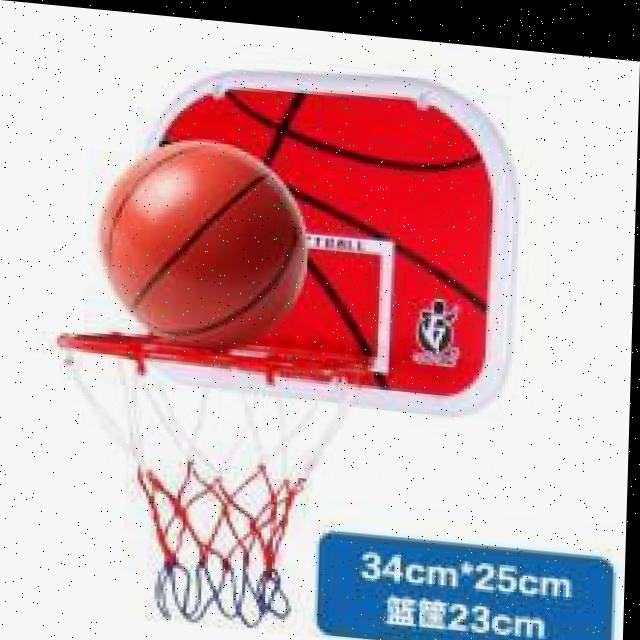basketball: (98, 130, 311, 353)
hoop: (49, 329, 360, 638)
